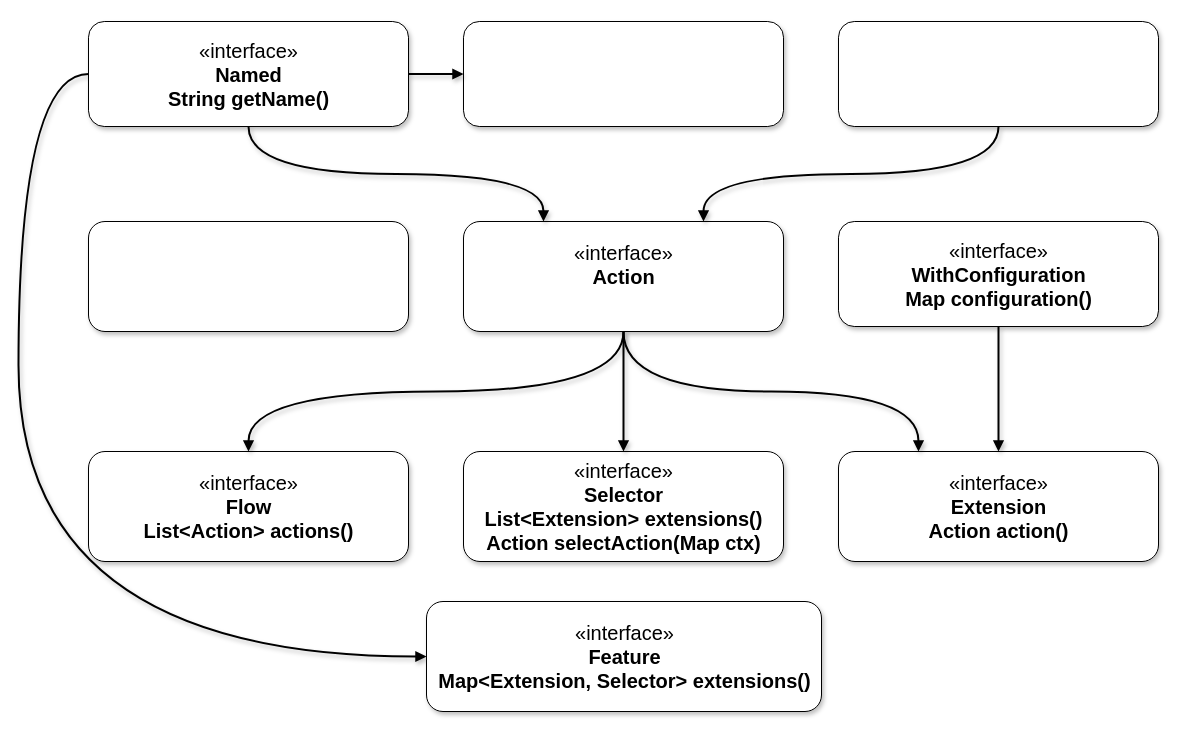
The diagram is 1182 pixels wide and 736 high, and some of its shapes have lost their labels. Here are the shapes that lost their labels. From the top down, the centre of each, then its label:
the point at 624,75: «interface» Middleware (Map meta, DataFunction f) -> DataFunction
the point at 999,75: «interface» Data function Map -> Map
the point at 249,277: «interface» Actor Consumer<Map> -> T
